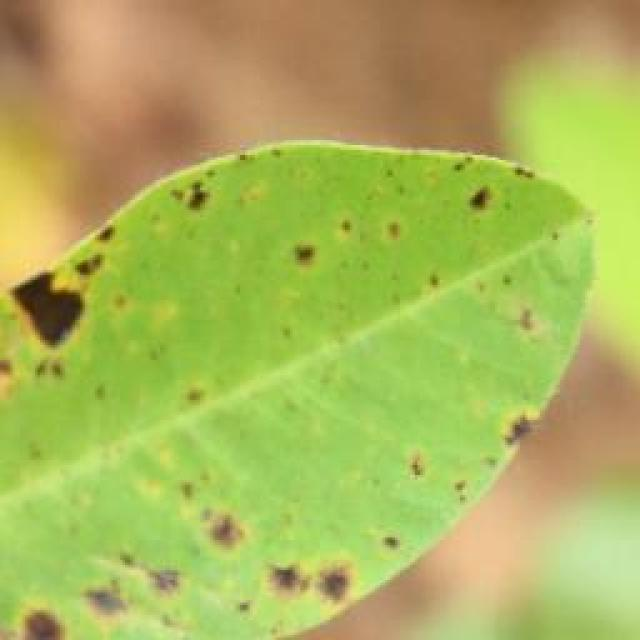Yellowish: (0, 85, 566, 640)
